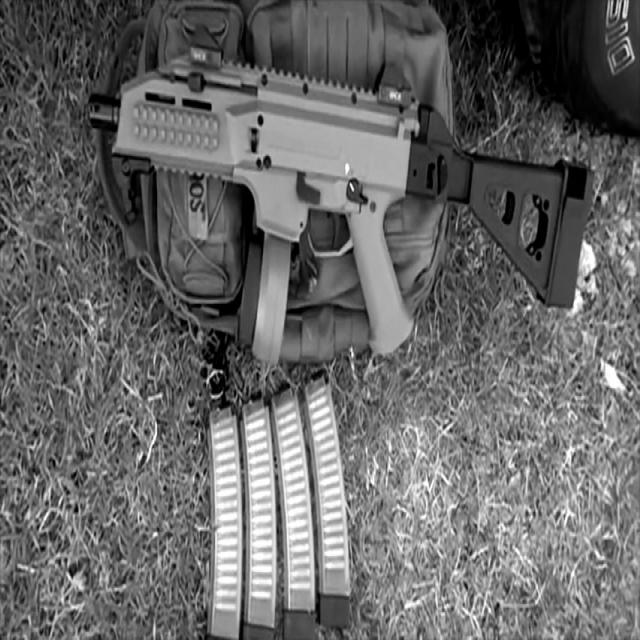Sub-machine-gun: (90, 0, 628, 447)
